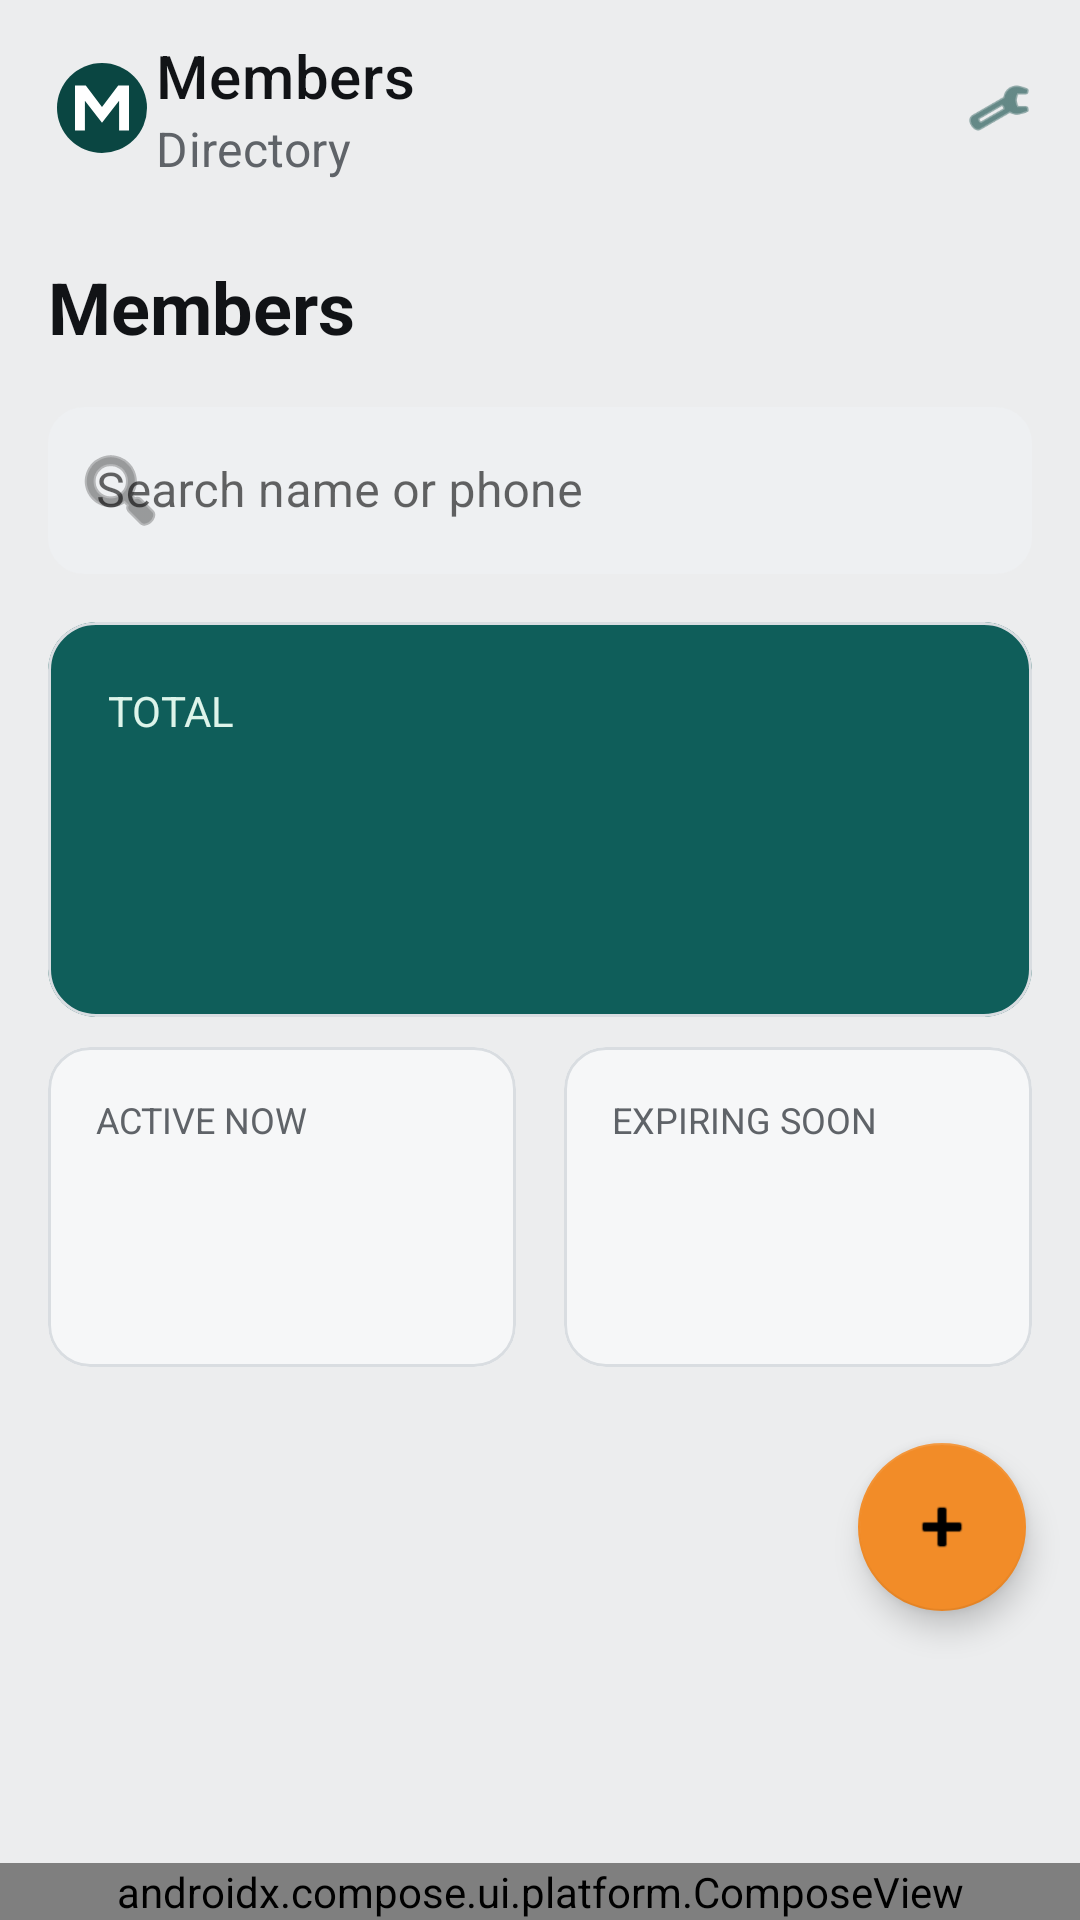

Where icons sit on this 1080px x 1920px app screen, as (x1, y1, x2, y2):
Add member: (858, 1443, 1026, 1611)
